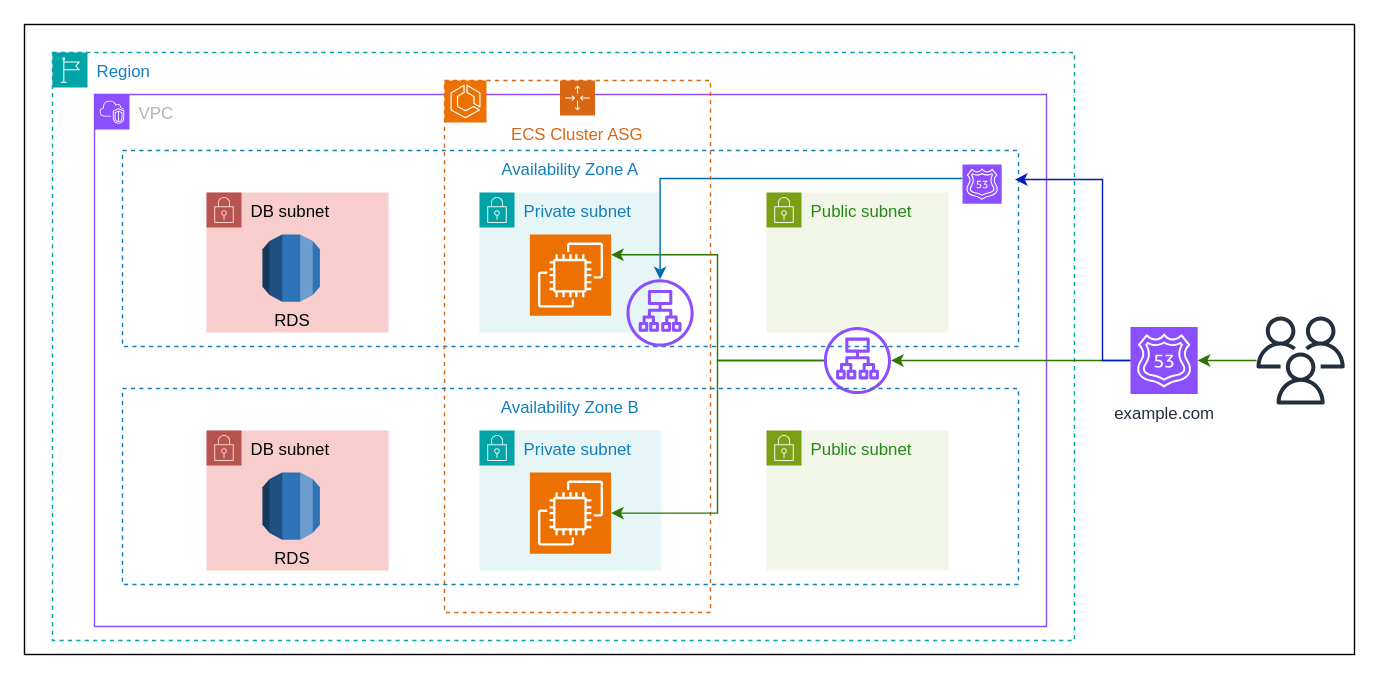
The diagram is 1379 pixels wide and 679 high, and some of its shapes have lost their labels. The shapes that lost their labels are listed below. From the top down, each one's centre as x and y in pixels, then its label:
At point (981, 183): "phz example.com".
At point (659, 312): "Internal ALB".
At point (856, 359): "Public ALB".
At point (1300, 360): "Users".
